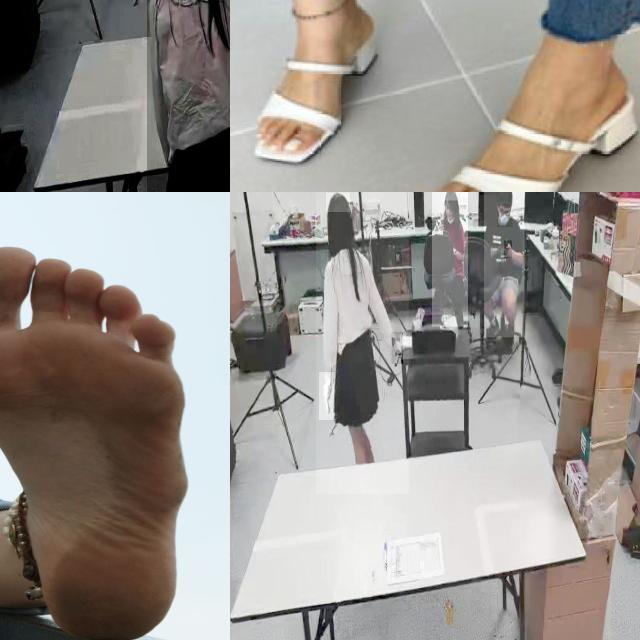Barefoots: (0, 246, 189, 640)
Sandals: (413, 24, 640, 192), (244, 0, 386, 171)
face_mask: (498, 204, 512, 227)
face_nomask: (445, 203, 453, 221)
hand_glove: (319, 372, 335, 421), (392, 332, 404, 365)
hand_noglove: (504, 241, 512, 259)
head_nohelmet: (326, 192, 350, 213), (496, 192, 512, 203), (444, 192, 457, 201)
person: (316, 192, 409, 494), (147, 0, 230, 192), (484, 192, 525, 338), (431, 192, 468, 327)
